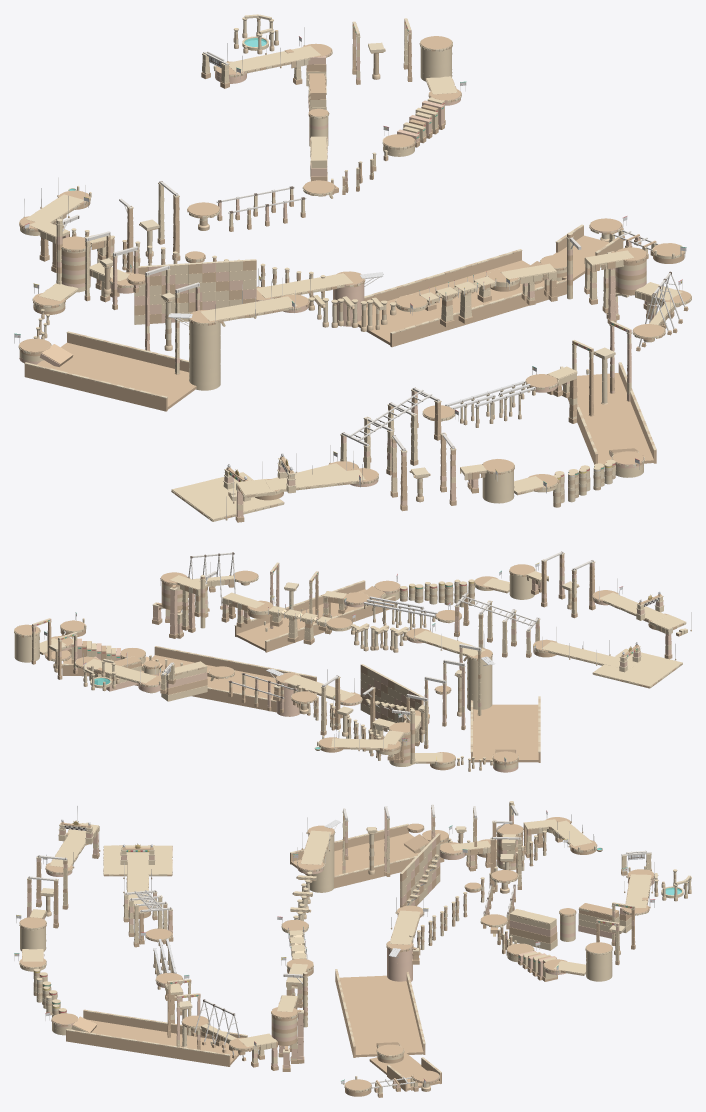
The model's file is run_masonry.glb.
The picture shows the model from 3 angles, top to bottom: view 1: azimuth 30°, elevation 25°; view 2: azimuth 150°, elevation 25°; view 3: azimuth 270°, elevation 25°; orthographic projection. The views are drawn at different scales.
Parts seen in each view (by area): view 1: run_masonry; view 2: run_masonry; view 3: run_masonry.
Part boxes in pixels (box(x1,y1,x2,y2)): run_masonry: box(14, 14, 691, 522); run_masonry: box(14, 551, 691, 772); run_masonry: box(14, 801, 691, 1097).
Size of the model in its own units: 230 by 64.27 by 259.
